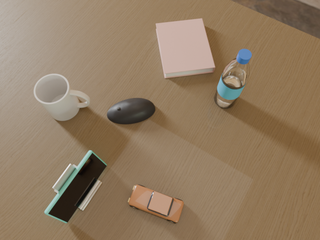book: (156, 19, 215, 78)
bottle: (214, 49, 251, 108)
cup: (34, 74, 90, 121)
mouse: (107, 98, 155, 124)
phone: (45, 151, 107, 223)
toy_car: (128, 185, 184, 223)
